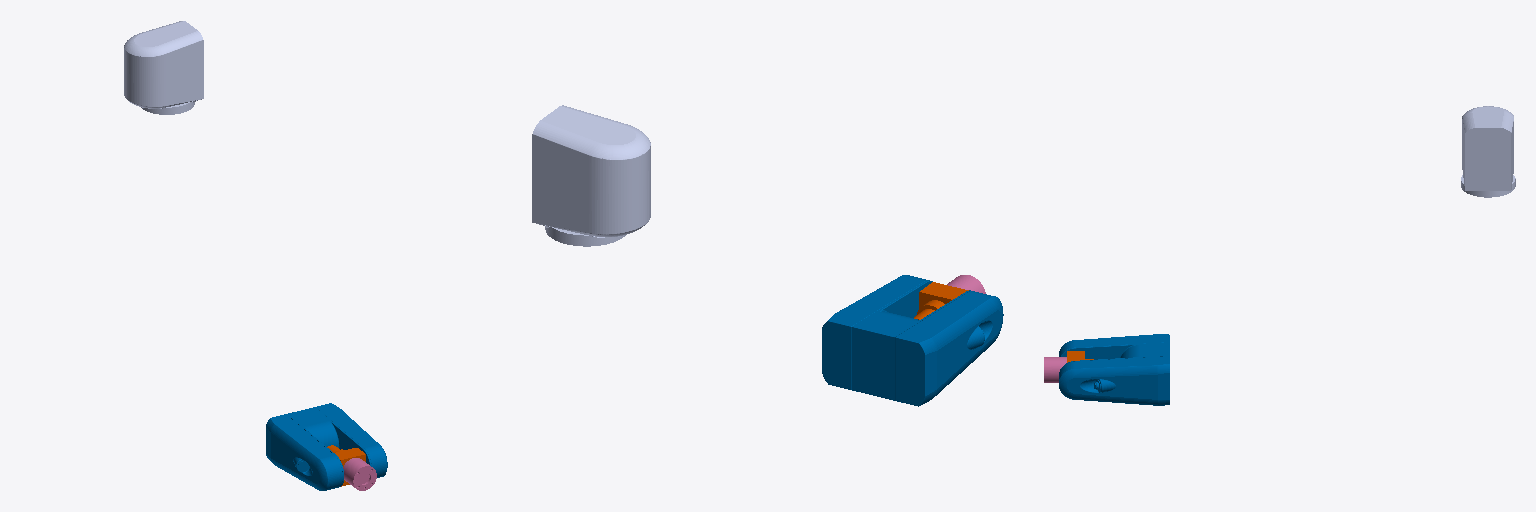
The robot description file, URDF, robot "KR3CR":
<?xml version="1.0"?>
<robot name="KR3CR"
       xmlns:xi="http://www.w3.org/2001/XInclude"
       xmlns:gazebo="http://playerstage.sourceforge.net/gazebo/xmlschema/#gz"
       xmlns:model="http://playerstage.sourceforge.net/gazebo/xmlschema/#model"
       xmlns:sensor="http://playerstage.sourceforge.net/gazebo/xmlschema/#sensor"
       xmlns:body="http://playerstage.sourceforge.net/gazebo/xmlschema/#body"
       xmlns:geom="http://playerstage.sourceforge.net/gazebo/xmlschema/#geom"
       xmlns:joint="http://playerstage.sourceforge.net/gazebo/xmlschema/#joint"
       xmlns:interface="http://playerstage.sourceforge.net/gazebo/xmlschema/#interface"
       xmlns:rendering="http://playerstage.sourceforge.net/gazebo/xmlschema/#rendering"
       xmlns:renderable="http://playerstage.sourceforge.net/gazebo/xmlschema/#renderable"
       xmlns:controller="http://playerstage.sourceforge.net/gazebo/xmlschema/#controller"
       xmlns:physics="http://playerstage.sourceforge.net/gazebo/xmlschema/#physics">

  <link name="link1">
    <visual>
      <origin xyz="0 0 0" rpy="0 -0 0"/>
      <geometry>
        <mesh filename="package://urdf_collection/meshes/kr3cr/link_1.obj" scale="1 1 1" />
      </geometry>
    </visual>
    <collision>
      <origin xyz="0 0 0" rpy="0 0 0"/>
      <geometry>
        <mesh filename="package://urdf_collection/meshes/kr3cr/link_1.obj" scale="1 1 1" />
      </geometry>
    </collision>
    <inertial>
      <mass value="1" />
      <origin xyz="0 0 0" rpy="0 -0 0"/>
      <inertia ixx="0.4" ixy="0" ixz="0" iyy="0.4" iyz="0" izz="0.4"/>
    </inertial>
  </link>

  <link name="link2">
    <visual>
      <origin xyz="0 0 0" rpy="3.14159 0 0"/>
      <geometry>
        <mesh filename="package://urdf_collection/meshes/kr3cr/link_2.obj" scale="1 1 1" />
      </geometry>
    </visual>
    <collision>
      <origin xyz="0 0 0" rpy="3.14159 0 0"/>
      <geometry>
        <mesh filename="package://urdf_collection/meshes/kr3cr/link_2.obj" scale="1 1 1" />
      </geometry>
    </collision>
    <inertial>
      <mass value="1" />
      <origin xyz="0 0 0" rpy="0 0 0"/>
      <inertia ixx="0.4" ixy="0" ixz="0" iyy="0.4" iyz="0" izz="0.4"/>
    </inertial>
  </link>

  <link name="link3">
    <visual>
      <origin xyz="0.1 0 -0.35" rpy="1.5708 0 0"/>
      <geometry>
        <mesh filename="package://urdf_collection/meshes/kr3cr/link_3.obj" scale="1 1 1" />
      </geometry>
    </visual>
    <collision>
      <origin xyz="0.1 0 -0.35" rpy="1.5708 0 0"/>
      <geometry>
        <mesh filename="package://urdf_collection/meshes/kr3cr/link_3.obj" scale="1 1 1" />
      </geometry>
    </collision>
    <inertial>
      <mass value="1" />
      <origin xyz="0.1 0 -0.35" rpy="0 0 0"/>
      <inertia ixx="0.4" ixy="0" ixz="0" iyy="0.4" iyz="0" izz="0.4"/>
    </inertial>
  </link>

<!-- BAD POSITIONED LINKS START FROM HERE -->
  <link name="link4">
    <visual>
      <origin xyz="0.1 0 -0.615" rpy="0 0 0"/>
      <geometry>
        <mesh filename="package://urdf_collection/meshes/kr3cr/link_4_new.obj" scale="1 1 1" />
      </geometry>
      <material name="default_material">
        <color rgba="0.79 0.82 0.93 1"/>
      </material>
    </visual>
    <collision>
      <origin xyz="0.1 0 -0.615" rpy="0 0 0"/>
      <geometry>
        <mesh filename="package://urdf_collection/meshes/kr3cr/link_4_new.obj" scale="1 1 1" />
      </geometry>
    </collision>
    <inertial>
      <mass value="1" />
      <origin xyz="0.1 0 -0.615" rpy="0 0 0"/>
      <inertia ixx="0.4" ixy="0" ixz="0" iyy="0.4" iyz="0" izz="0.4"/>
    </inertial>
  </link>

  <link name="link5">
    <visual>
      <origin xyz="0 0 0" rpy="1.5708 0 -1.5708"/>
      <geometry>
        <mesh filename="package://urdf_collection/meshes/kr3cr/link_5.obj" scale="1 1 1" />
      </geometry>
    </visual>
    <collision>
      <origin xyz="0 0 0" rpy="1.5708 0 -1.5708"/>
      <geometry>
        <mesh filename="package://urdf_collection/meshes/kr3cr/link_5.obj" scale="1 1 1" />
      </geometry>
    </collision>
    <inertial>
      <mass value="1" />
      <origin xyz="0 0 0" rpy="0 -0 0"/>
      <inertia ixx="0.4" ixy="0" ixz="0" iyy="0.4" iyz="0" izz="0.4"/>
    </inertial>
  </link>

<!-- LINK5 AND LINK6 ARE POSITION CORRECTLY (RELATIVE TO EACH OTHER) BUT NOT TO THE REST OF THE ROBOT -->
  <link name="link6">
    <visual>
      <origin xyz="0.399 0 -0.615" rpy="-1.83705 1.5708 -0.266252"/>
      <geometry>
        <mesh filename="package://urdf_collection/meshes/kr3cr/link_6.obj" scale="1 1 1" />
      </geometry>
    </visual>
    <collision>
      <origin xyz="0.399 0 -0.615" rpy="-1.83705 1.5708 -0.266252"/>
      <geometry>
        <mesh filename="package://urdf_collection/meshes/kr3cr/link_6.obj" scale="1 1 1" />
      </geometry>
    </collision>
    <inertial>
      <mass value="1" />
      <origin xyz="0.399 0 -0.615" rpy="0 -0 0"/>
      <inertia ixx="0.4" ixy="0" ixz="0" iyy="0.4" iyz="0" izz="0.4"/>
    </inertial>
  </link>

  <link name="link7">
    <visual>
      <origin xyz="0.474 0 -0.615" rpy="1.5708 0 -1.5708"/>
      <geometry>
        <mesh filename="package://urdf_collection/meshes/kr3cr/link_7.obj" scale="1 1 1" />
      </geometry>
    </visual>
    <collision>
      <origin xyz="0.474 0 -0.615" rpy="1.5708 0 -1.5708"/>
      <geometry>
        <mesh filename="package://urdf_collection/meshes/kr3cr/link_7.obj" scale="1 1 1" />
      </geometry>
    </collision>
    <inertial>
      <mass value="1" />
      <origin xyz="0.474 0 -0.615" rpy="0 -0 0"/>
      <inertia ixx="0.4" ixy="0" ixz="0" iyy="0.4" iyz="0" izz="0.4"/>
    </inertial>
  </link>

  <joint name="j1" type="revolute">
    <parent link="link1"/>
    <child  link="link2"/>
    <origin xyz="0 0 0" rpy="3.14159 0 0 "/>
    <axis   xyz="0 0 1"/>
    <limit lower="-3.14159" upper="3.14159" effort="50" velocity="4.18879" />
    <dynamics damping="0.2" friction="0" />
  </joint>

  <joint name="j2" type="revolute">
    <parent link="link2"/>
    <child  link="link3"/>
    <origin xyz="0.1 0 -0.35" rpy="1.5708 0 0 "/>
    <axis   xyz="0 0 1"/>
    <limit lower="-0.785398" upper="2.35619" effort="50" velocity="3.66519" />
    <dynamics damping="0.2" friction="0" />
  </joint>

<!-- BAD POSITIONING FOR LINKS FROM HERE -->
  <joint name="j3" type="revolute">
    <parent link="link3"/>
    <child  link="link4"/>
    <origin xyz="-0.1 0 -0.265" rpy="0 0 0 "/>
    <axis   xyz="0 0 1"/>
    <limit lower="-2.35619" upper="2.35619" effort="50" velocity="4.18879" />
    <dynamics damping="0.2" friction="0" />
  </joint>

  <joint name="j4" type="revolute">
    <parent link="link4"/>
    <child  link="link5"/>
    <origin xyz="0 0 0" rpy="1.5708 0 -1.5708 "/>
    <axis   xyz="0 0 1"/>
    <limit lower="-3.14159" upper="3.14159" effort="50" velocity="6.54498" />
    <dynamics damping="0.2" friction="0" />
  </joint>

  <joint name="j5" type="revolute">
    <parent link="link5"/>
    <child  link="link6"/>
    <origin xyz="0 0 -0.27" rpy="-1.83705 1.5708 -0.266252 "/>
    <axis   xyz="0 0 1"/>
    <limit lower="-2.35619" upper="2.35619" effort="50" velocity="5.23599" />
    <dynamics damping="0.2" friction="0" />
  </joint>

  <joint name="j6" type="continuous">
    <parent link="link6"/>
    <child  link="link7"/>
    <origin xyz="0 0 0" rpy="1.5708 0 -1.5708 "/>
    <axis   xyz="0 0 1"/>
    <limit lower="-3.14159" upper="3.14159" effort="50" velocity="6.54498" />
    <dynamics damping="0.2" friction="0" />
  </joint>
</robot>

--- Render facts (derived) ---
Views: 3 orthographic renders of the robot side by side, from view 1: azimuth 30°, elevation 25°; view 2: azimuth 150°, elevation 25°; view 3: azimuth 270°, elevation 25°.
Model KR3CR with 7 links and 6 joints (5 revolute, 1 continuous), rooted at link1, posed every joint at zero.
Visible links, largest first — view 1: link5, link4, link7; view 2: link5, link4, link6; view 3: link5, link4.
Link boxes in pixels (<box>): link5: <box>266,403,387,490</box>; link4: <box>124,21,203,114</box>; link7: <box>343,458,376,490</box>; link5: <box>822,275,1003,406</box>; link4: <box>532,105,650,246</box>; link6: <box>914,282,968,319</box>; link5: <box>1059,334,1169,405</box>; link4: <box>1461,106,1515,197</box>.
Size in the robot's own frame: 251 by 1124 by 760 metres.
Meshes: 7 distinct files referenced, 4 mesh visuals loaded (4 OBJ); not drawn: 3 (reference not matched to a file when rendering).
